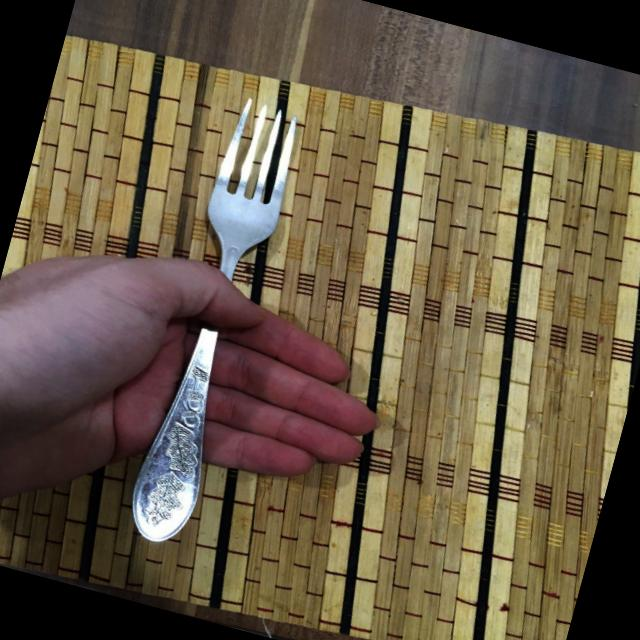fork: (118, 90, 306, 552)
